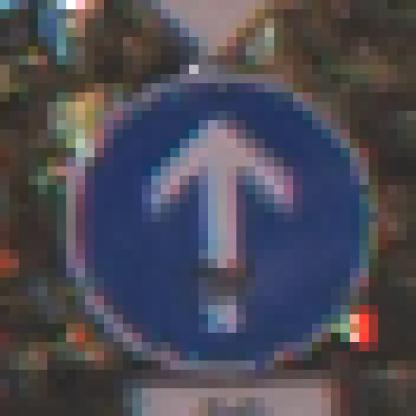AheadOnly: (48, 47, 370, 371)
